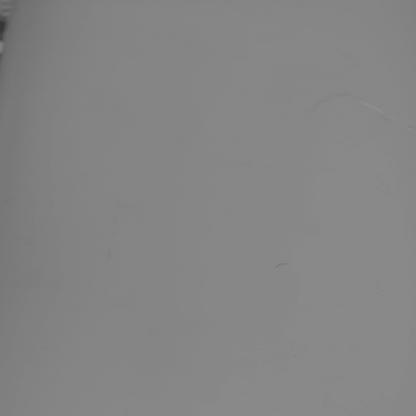sunshang: (350, 89, 402, 129)
